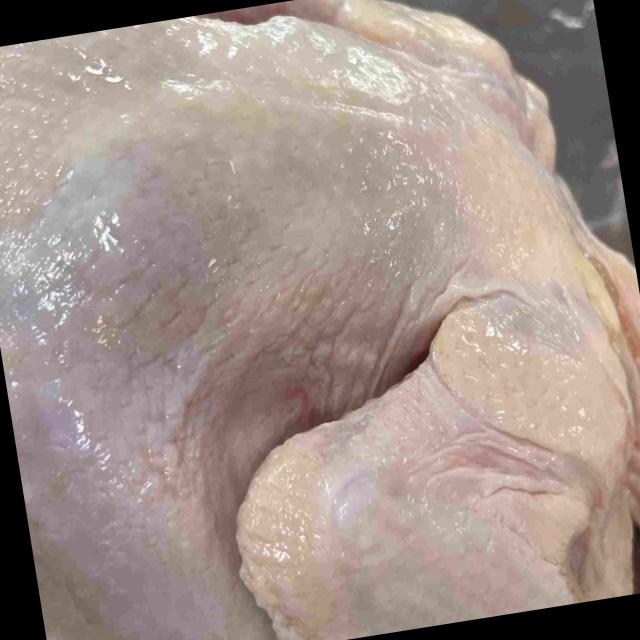back: (0, 16, 436, 384)
leg: (11, 412, 266, 640)
neck: (608, 238, 640, 358)
wing: (237, 284, 638, 640), (213, 0, 545, 93)
